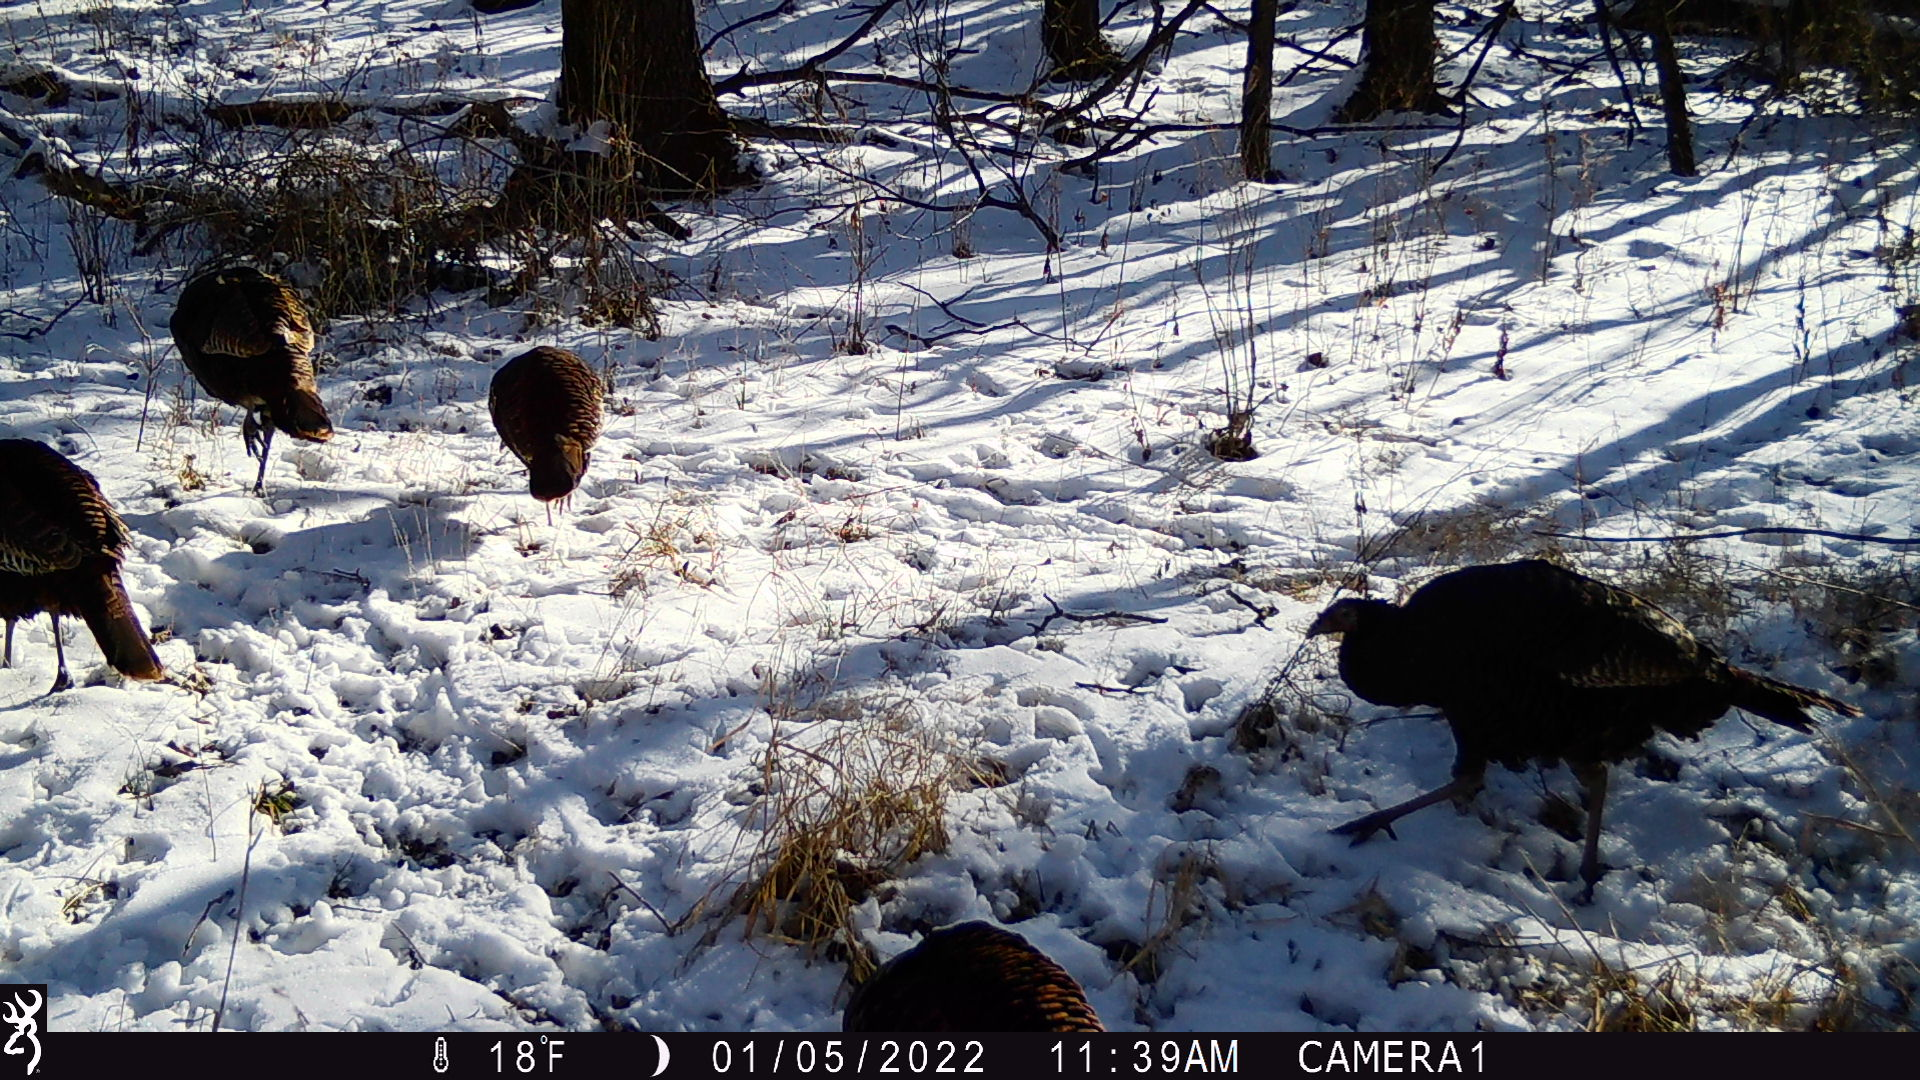Turkey: (1303, 560, 1867, 775), (1, 435, 166, 680), (171, 262, 338, 444), (843, 920, 1101, 1034), (487, 344, 607, 501)
